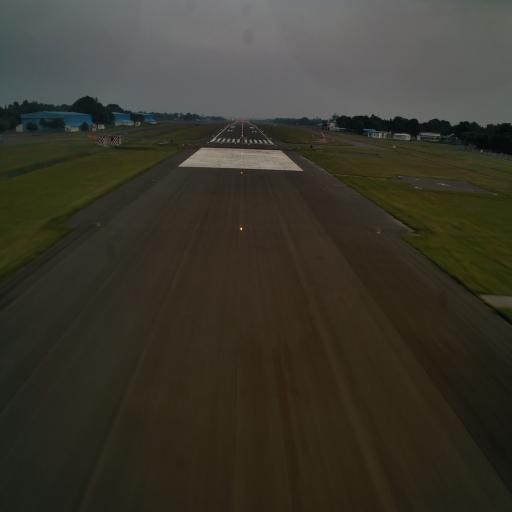off: (375, 226, 382, 237), (96, 219, 102, 229)
on: (237, 222, 245, 232), (240, 170, 244, 176)
